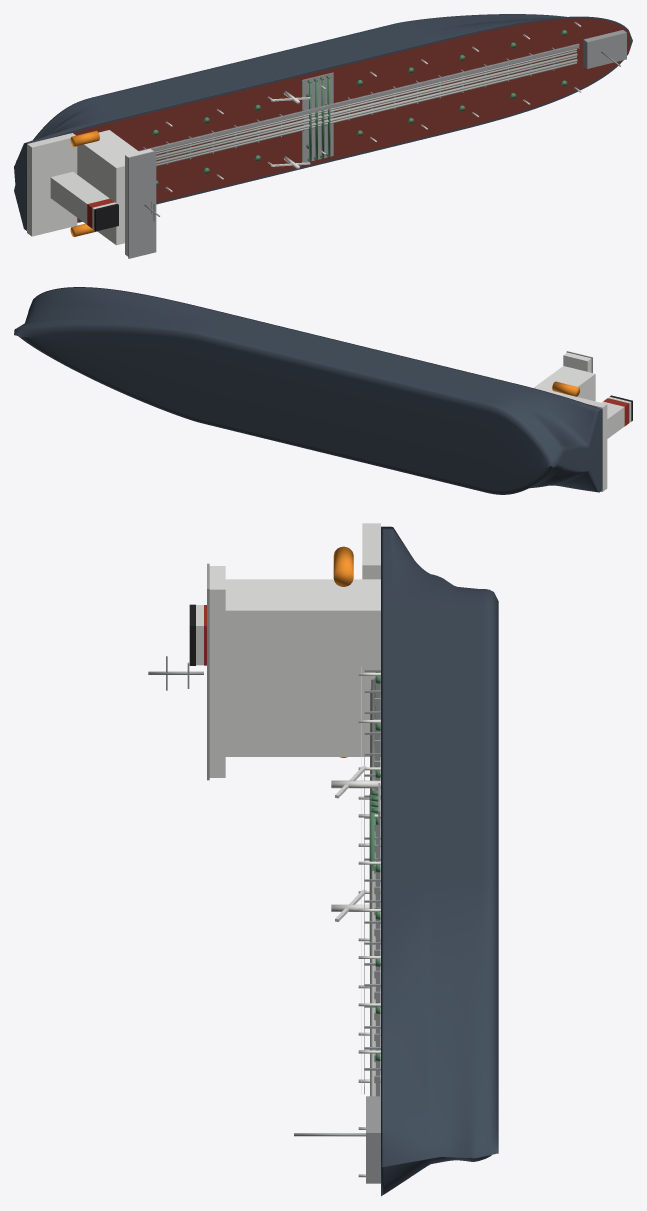
File: ship_tanker.glb
3 renders of one model, top to bottom at view 1: azimuth 30°, elevation 25°; view 2: azimuth 150°, elevation 25°; view 3: azimuth 270°, elevation 25°, orthographic. The views are drawn at different scales.
Visible parts, largest first — view 1: TankerDeck, Hull, Poop, Accommodation, BridgeRoof, CatwalkDeck, Funnel, ManifoldPlatform, Pipe3, Pipe1, Forecastle, Pipe4 (+7 smaller); view 2: Hull, Accommodation, Poop, Funnel, BridgeDeck; view 3: Hull, Accommodation, BridgeDeck, Forecastle, Pipe5, Poop.
Part boxes in pixels (bbox=[...]): TankerDeck: bbox=[73, 18, 630, 220]; Hull: bbox=[14, 14, 632, 230]; Poop: bbox=[27, 133, 77, 236]; Accommodation: bbox=[77, 130, 138, 245]; BridgeRoof: bbox=[128, 151, 156, 258]; CatwalkDeck: bbox=[139, 43, 579, 151]; Funnel: bbox=[50, 172, 116, 229]; ManifoldPlatform: bbox=[302, 72, 333, 162]; Pipe3: bbox=[156, 53, 577, 158]; Pipe1: bbox=[156, 59, 577, 164]; Forecastle: bbox=[583, 30, 626, 68]; Pipe4: bbox=[156, 50, 576, 154]; Hull: bbox=[14, 287, 602, 494]; Accommodation: bbox=[533, 366, 595, 401]; Poop: bbox=[561, 394, 607, 491]; Funnel: bbox=[601, 397, 631, 438]; BridgeDeck: bbox=[563, 352, 591, 372]; Hull: bbox=[381, 526, 498, 1196]; Accommodation: bbox=[225, 579, 380, 756]; BridgeDeck: bbox=[209, 566, 225, 777]; Forecastle: bbox=[366, 1096, 380, 1183]; Pipe5: bbox=[371, 679, 374, 1096]; Poop: bbox=[362, 523, 380, 579].
Bounding box in the file's own units: 214 × 34 × 56.5.
